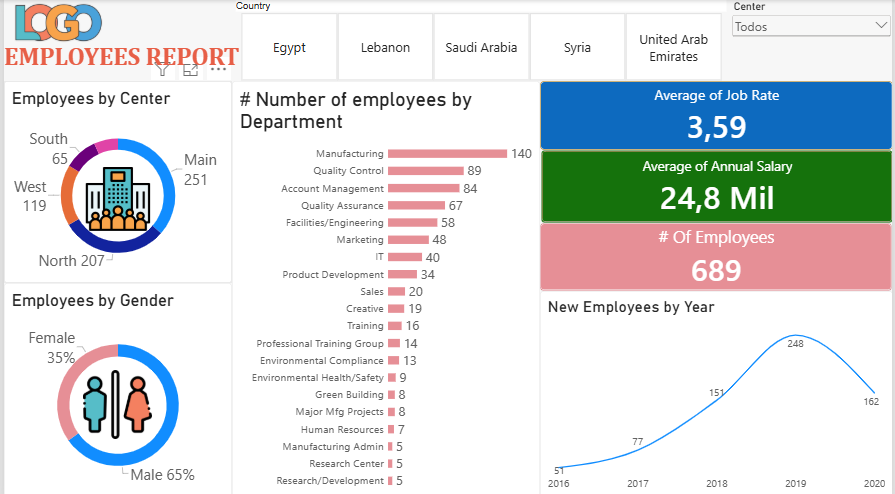

The page's visual inventory and layout, read from the dashboard file:
{"tool":"powerbi","page":{"name":"Página 1","canvas":[1920,1080],"ordinal":0},"visuals":[{"type":"barChart","title":"# Number of employees by Department ","fields":{"Category":["EmpTable.Department"],"Y":["CountNonNull(EmpTable.No)"]},"box":[492.5,175,665.3,905],"z":0},{"type":"donutChart","title":"Employees by Center","fields":{"Category":["EmpTable.Center"],"Y":["CountNonNull(EmpTable.No)"]},"box":[0,175,492.5,436.3],"z":1000},{"type":"donutChart","title":"Employees by Gender","fields":{"Category":["EmpTable.Gender"],"Y":["CountNonNull(EmpTable.Gender)"]},"box":[0,611.3,492.5,468.7],"z":2000},{"type":"lineChart","title":"New Employees by Year","fields":{"Category":["EmpTable.Start Date.Variation.Hierarquia de datas.Ano","EmpTable.Start Date.Variation.Hierarquia de datas.Trimestre","EmpTable.Start Date.Variation.Hierarquia de datas.Mês","EmpTable.Start Date.Variation.Hierarquia de datas.Dia"],"Y":["CountNonNull(EmpTable.No)"]},"box":[1157.8,628.6,762.5,451.4],"z":3000},{"type":"cardVisual","fields":{"Data":["CountNonNull(EmpTable.No)"]},"box":[1157.8,481.7,760.3,146.9],"z":4000},{"type":"cardVisual","fields":{"Data":["Avg(EmpTable.Annual Salary)"]},"box":[1159.9,324,760.3,157.7],"z":5000},{"type":"cardVisual","fields":{"Data":["Avg(EmpTable.Job Rate)"]},"box":[1157.8,175,762.5,149],"z":6000},{"type":"slicer","fields":{"Values":["EmpTable.Country"]},"box":[492.5,0,1075.7,175],"z":7000},{"type":"slicer","fields":{"Values":["EmpTable.Center"]},"box":[1568.2,0,352.1,97.2],"z":8000},{"type":"textbox","box":[0,88.6,518.4,86.4],"z":9000},{"type":"image","box":[0,0,233.3,97.2],"z":10000},{"type":"image","box":[170.6,786.2,149,175],"z":11000},{"type":"image","box":[170.6,360.7,151.2,138.2],"z":12000}]}

Visuals, with their boxes in screenshot pixels (x1, y1, x2, y2), scaled from the page's 1920x1080 canvas onto the 895x494 screenshot:
"# Number of employees by Department " barChart: <region>230, 80, 540, 493</region>
"Employees by Center" donutChart: <region>0, 80, 230, 280</region>
"Employees by Gender" donutChart: <region>0, 280, 230, 493</region>
"New Employees by Year" lineChart: <region>540, 288, 894, 493</region>
cardVisual - CountNonNull(EmpTable.No): <region>540, 220, 894, 288</region>
cardVisual - Avg(EmpTable.Annual Salary): <region>541, 148, 894, 220</region>
cardVisual - Avg(EmpTable.Job Rate): <region>540, 80, 894, 148</region>
slicer - EmpTable.Country: <region>230, 0, 731, 80</region>
slicer - EmpTable.Center: <region>731, 0, 894, 44</region>
textbox: <region>0, 41, 242, 80</region>
image: <region>0, 0, 109, 44</region>
image: <region>80, 360, 149, 440</region>
image: <region>80, 165, 150, 228</region>
